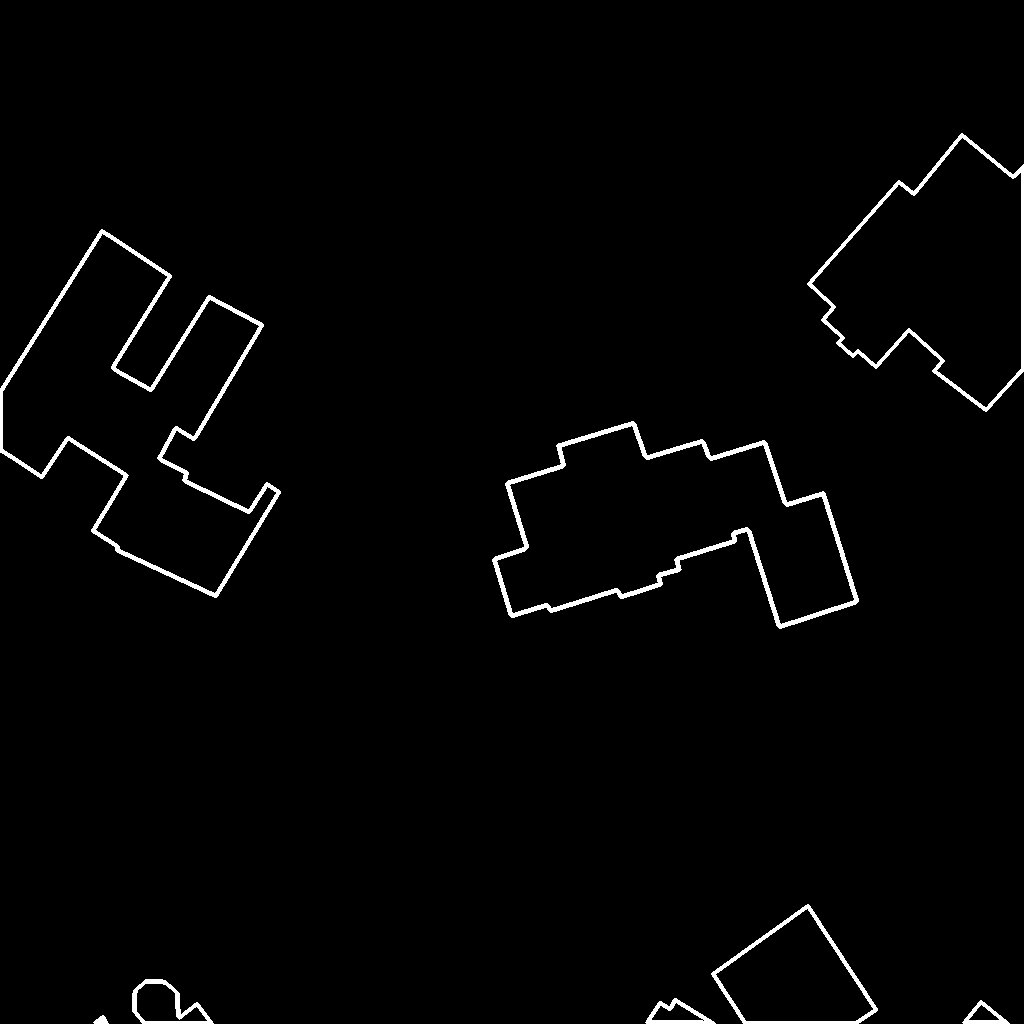building: (0, 231, 280, 597), (494, 423, 858, 628), (809, 135, 1024, 411), (713, 906, 877, 1024), (95, 981, 213, 1024), (647, 1000, 715, 1024), (964, 1002, 1009, 1024)
